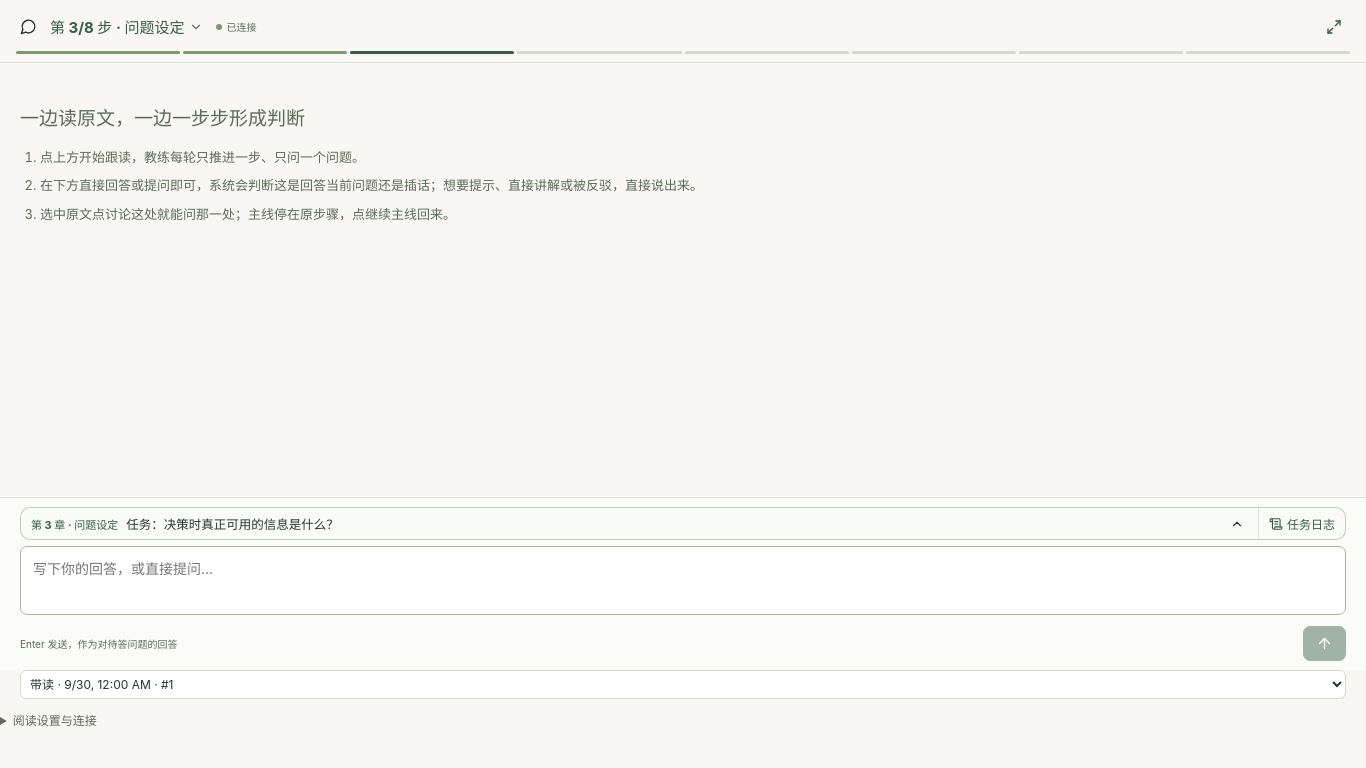
Test: keeps the mainline step, its button and the pending question in the panel when a tools drawer exists
This screenshot has width=1366, height=768.
Expected: the text "第 3/8 步 · 问题设定" is shown, [50,16,184,37]
Click the button "第 3 章 · 问题设定 任务：决策时真正可用的信息是什么？" at (96, 524), box [21,508,1254,539]
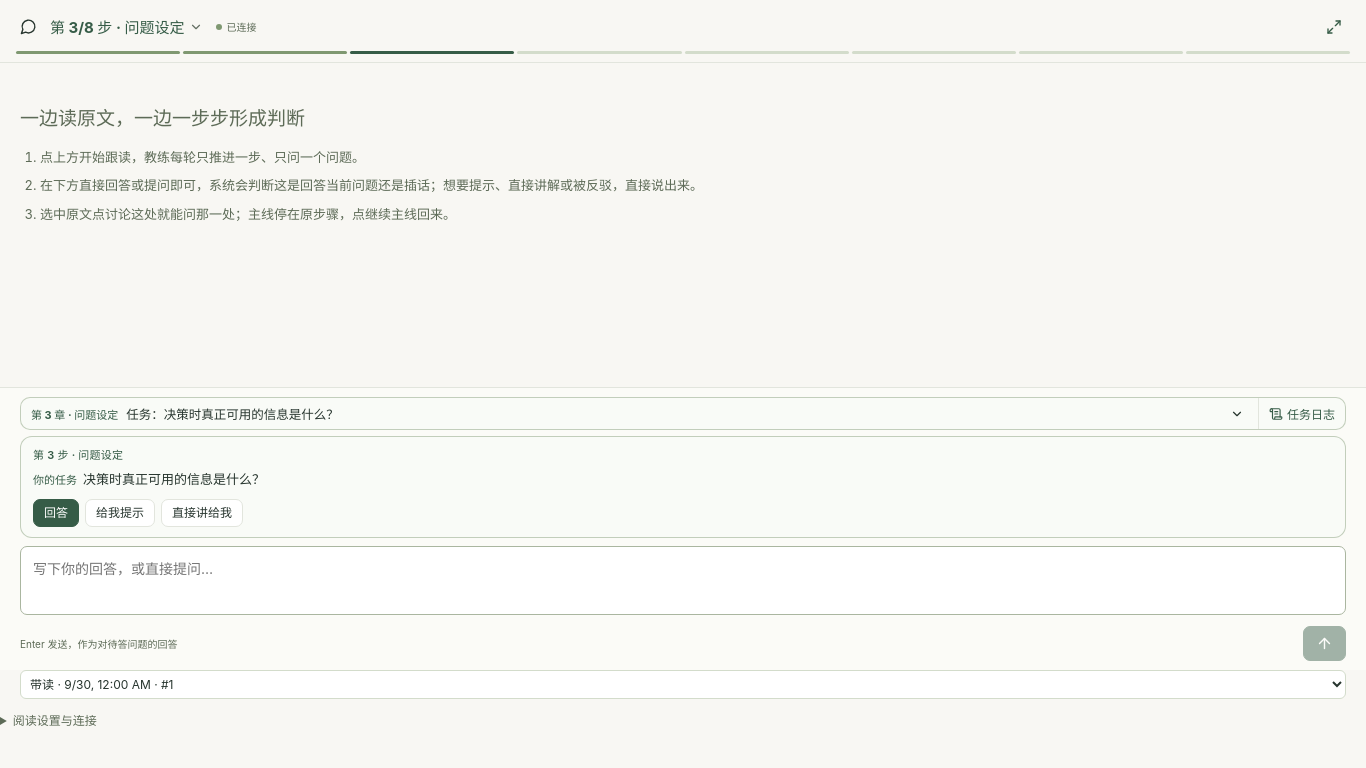
Expected: the number of list items with class "done" is 2, [16,51,180,54]; [183,51,347,54]
Now the button "回答" is shown, box [33,499,79,527]
Click the button titled "查看八步路线与核查依据" at (126, 26), box [46,12,206,41]
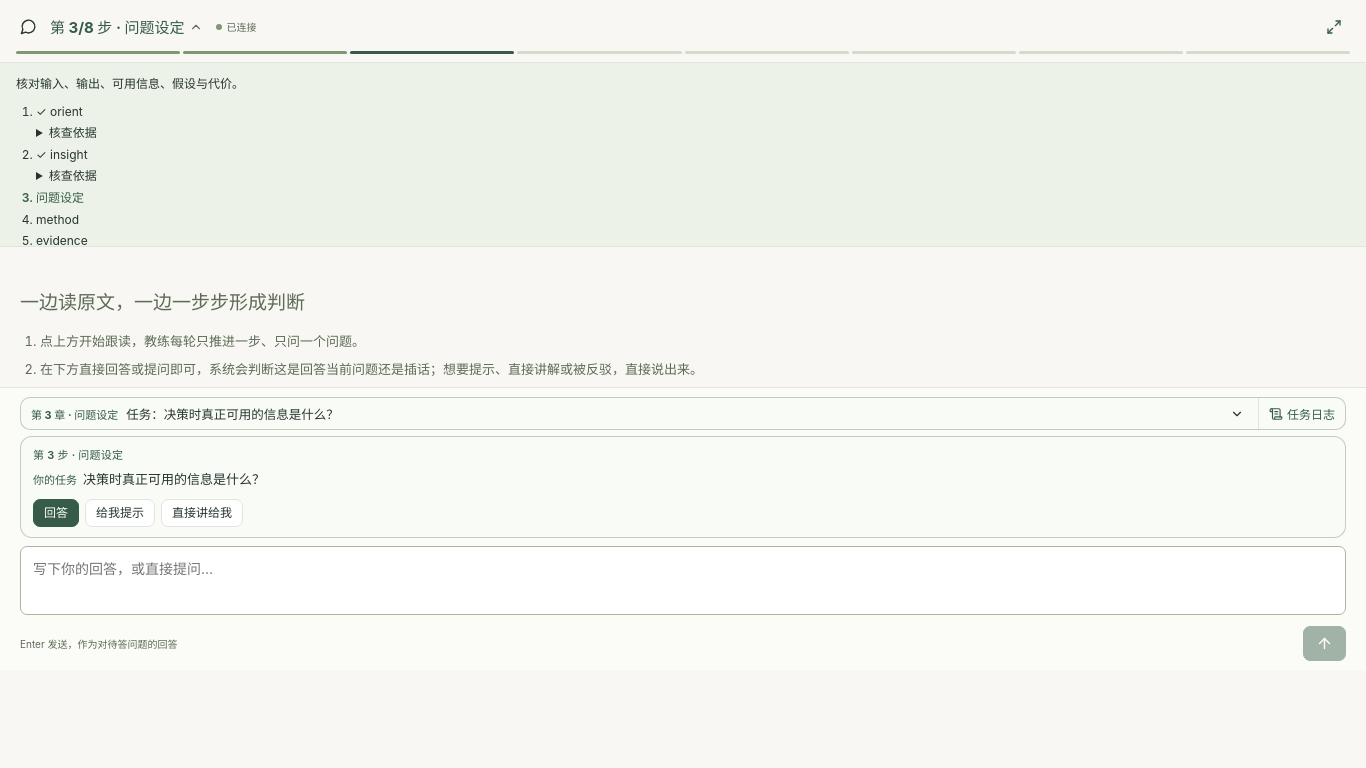
Now the element named "八步阅读路线" is shown, box [0,63,1365,247]
